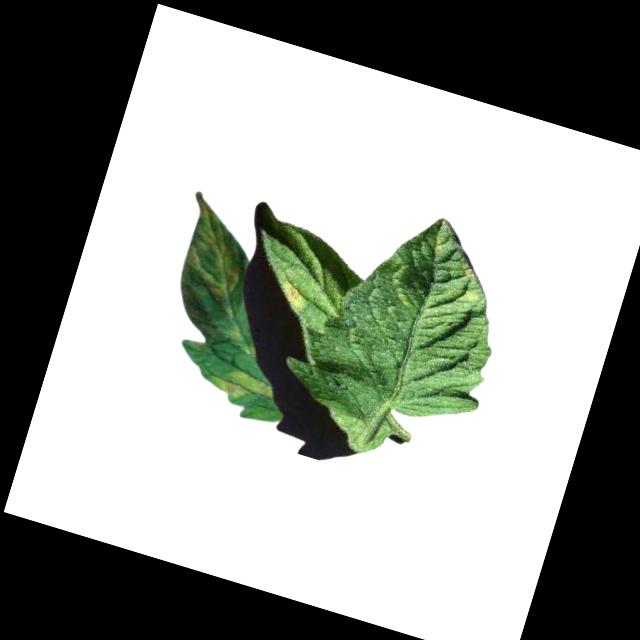Leaf_Mold: (167, 188, 262, 303), (203, 361, 279, 411), (450, 260, 491, 312), (273, 274, 317, 314)
